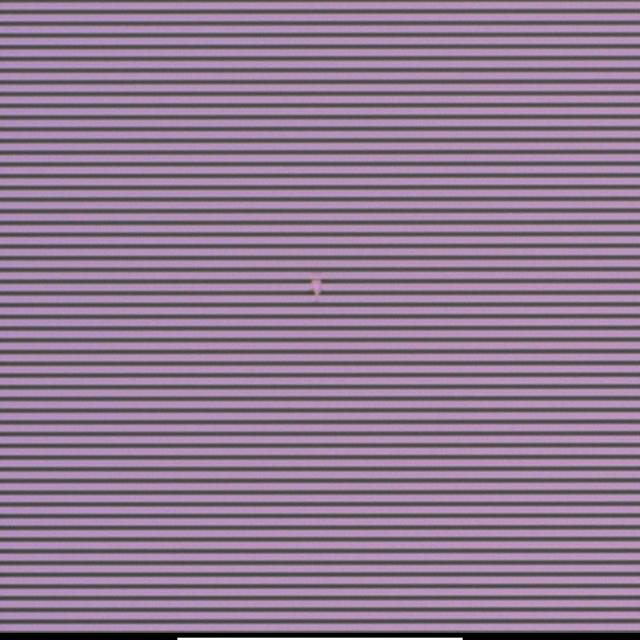03_intrusion: (309, 276, 323, 298)
